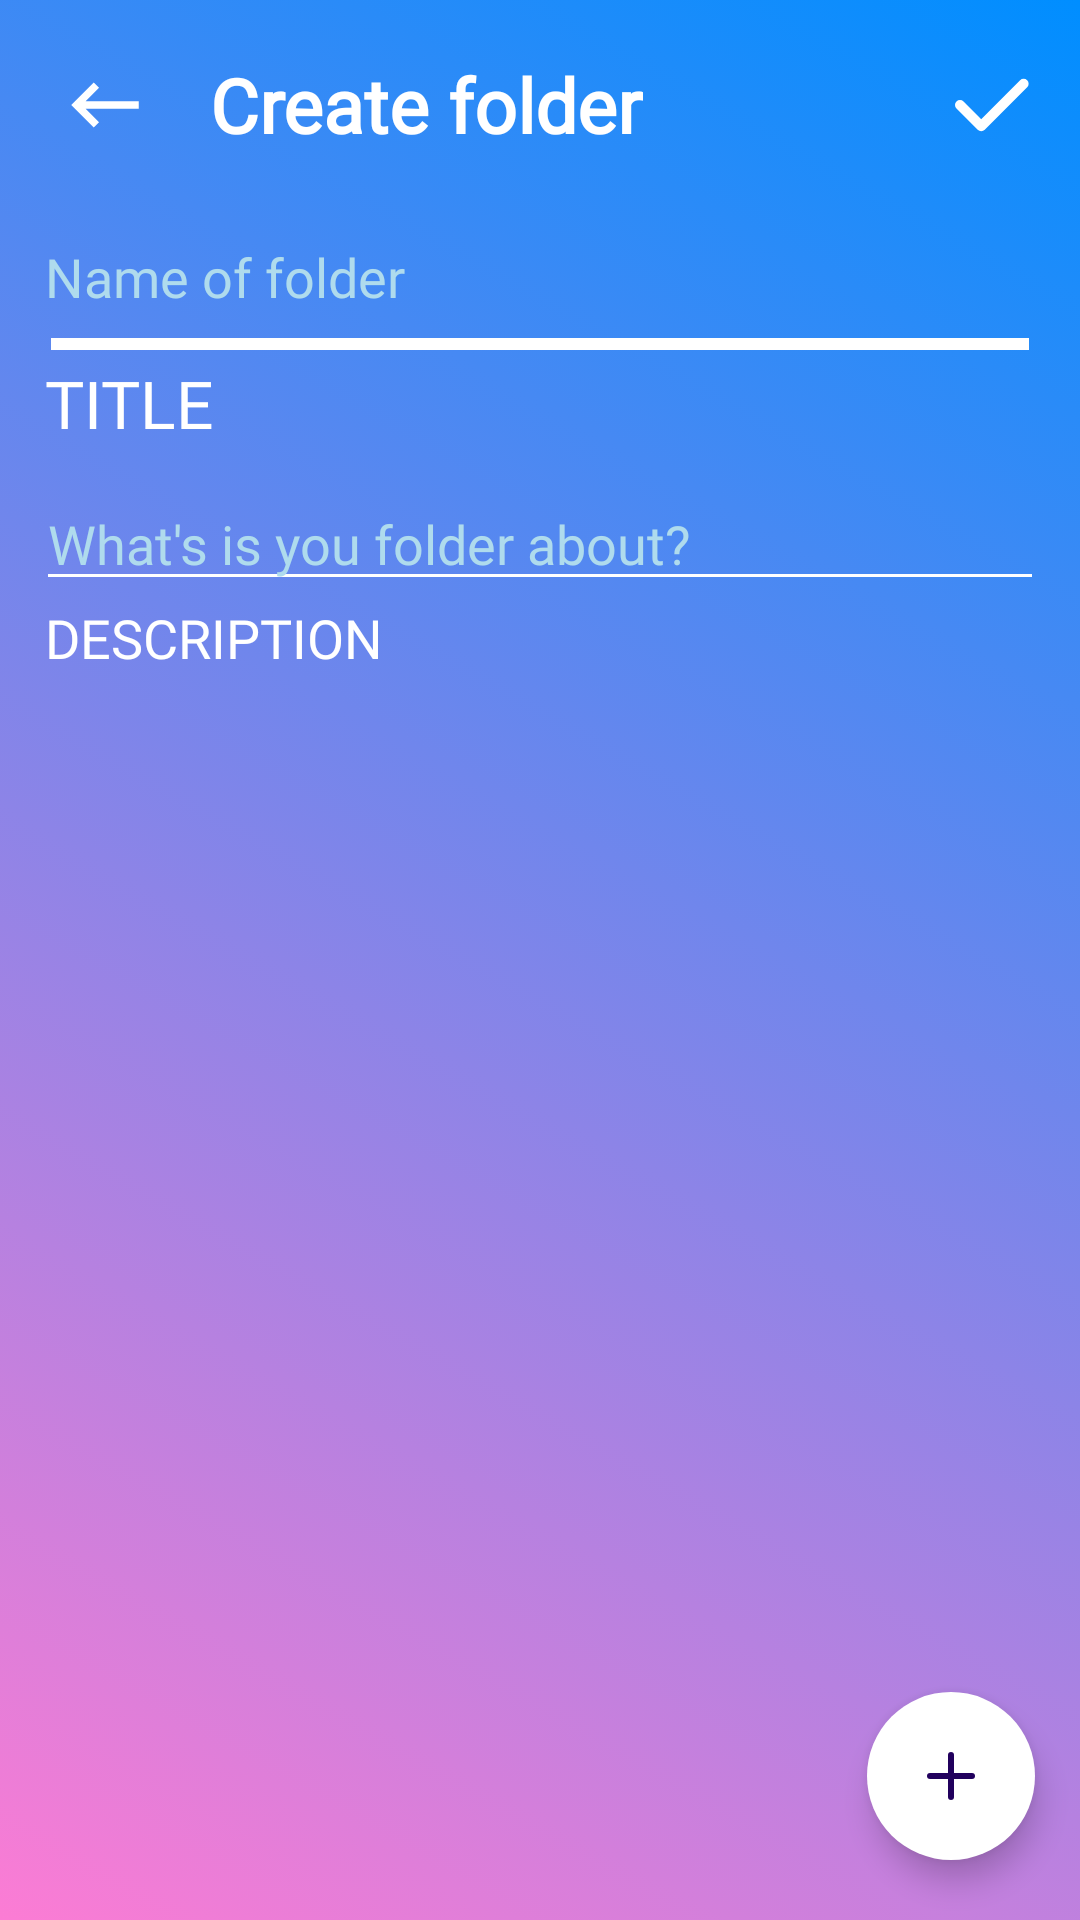

Named icons in this screenshot (1080 x 1920) and their bounding boxes, bbox=(x1, y1, x2, y2):
add: bbox=(867, 1692, 1035, 1860)
check: bbox=(955, 78, 1029, 132)
keyboard backspace: bbox=(71, 82, 139, 128)
